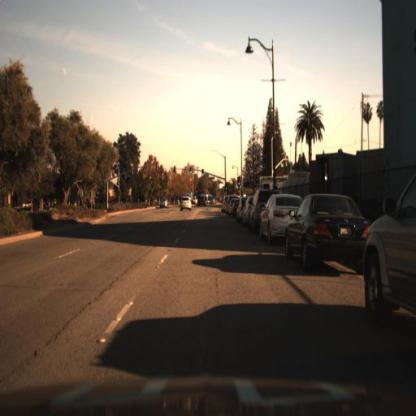car: (363, 161, 416, 334), (285, 194, 371, 272), (258, 191, 305, 245), (259, 192, 291, 249), (179, 194, 193, 214), (195, 194, 209, 210), (160, 195, 172, 213)
trafficLight-Green: (235, 180, 243, 193), (225, 183, 230, 195), (202, 170, 207, 181), (189, 168, 194, 178)
